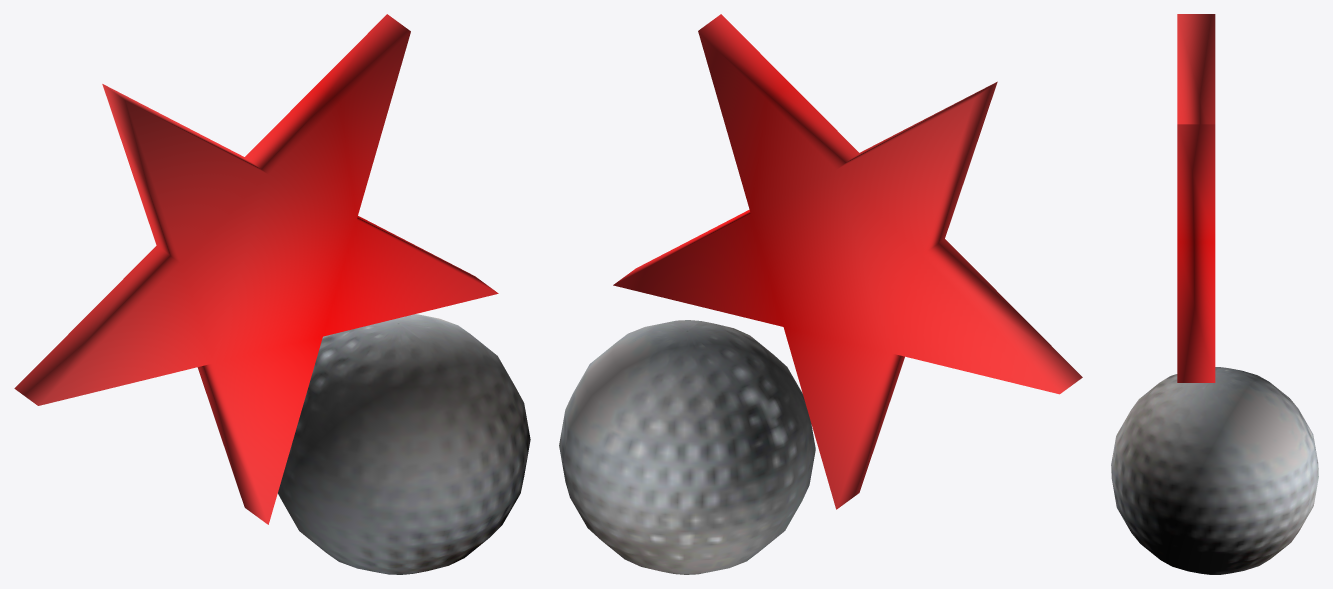
File: LEADER.ICN.obj
The picture shows the model from 3 angles, left to right: view 1: azimuth 30°, elevation 25°; view 2: azimuth 150°, elevation 25°; view 3: azimuth 270°, elevation 25°; orthographic projection. The views are drawn at different scales.
Size of the model in its own units: 1.84 by 1.95 by 0.8403.
Materials: 1 (1 with a texture image).
